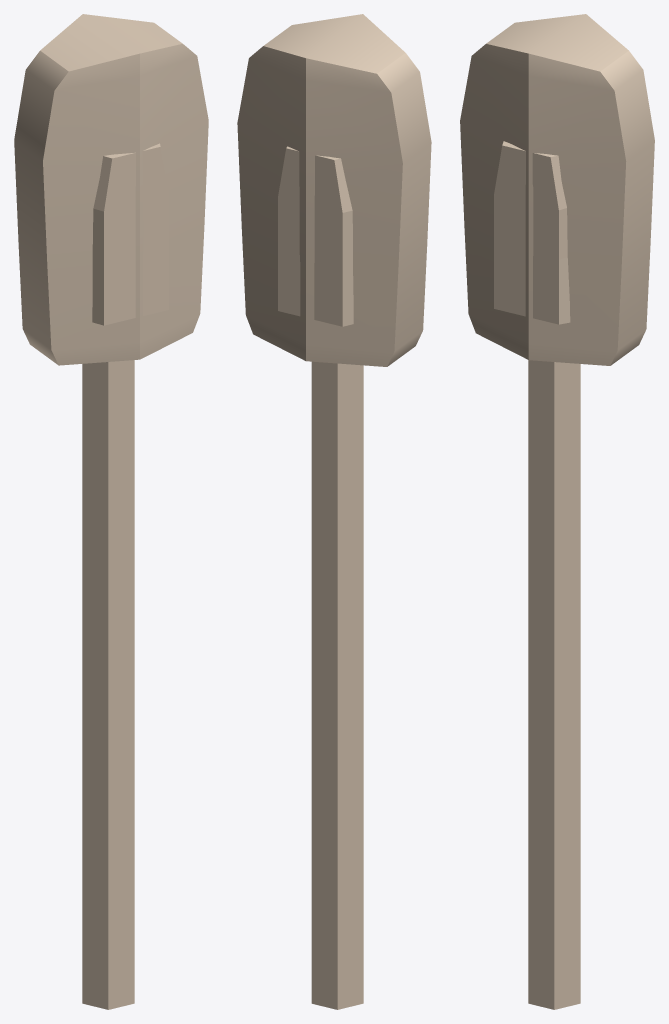
The model's file is 0oar.fbx.
3 renders of one model, left to right at view 1: azimuth 30°, elevation 25°; view 2: azimuth 150°, elevation 25°; view 3: azimuth 330°, elevation 25°, orthographic.
Parts seen in each view (by area): view 1: pCube4; view 2: pCube4; view 3: pCube4.
Boxes of the visible parts, <box> form: pCube4: <box>14,14,208,1009</box>; pCube4: <box>237,14,431,1009</box>; pCube4: <box>460,14,654,1009</box>.
Size of the model in its own units: 1.73 by 9.63 by 1.04.
